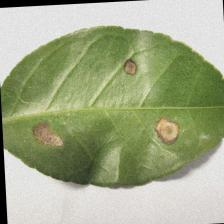canker: (25, 58, 181, 148)
